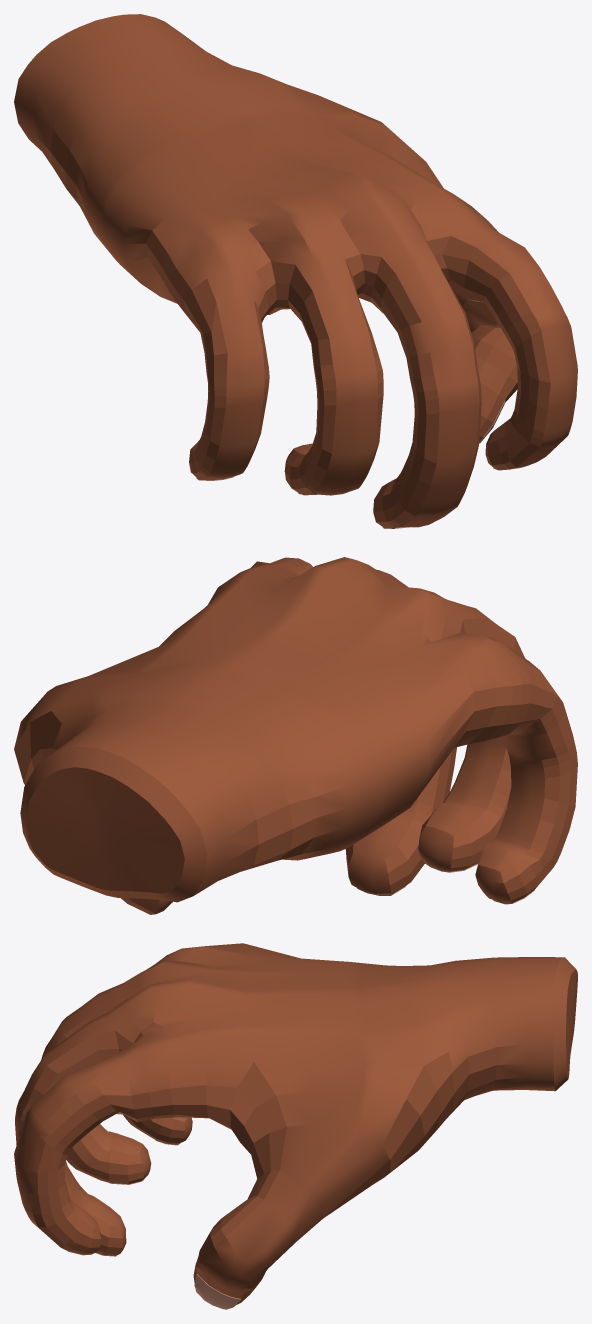
File: right_hand_closed_3.obj
The picture shows the model from 3 angles, top to bottom: view 1: azimuth 30°, elevation 25°; view 2: azimuth 150°, elevation 25°; view 3: azimuth 270°, elevation 25°; orthographic projection. The views are drawn at different scales.
Visible parts, largest first — view 1: hand:Mesh; view 2: hand:Mesh; view 3: hand:Mesh.
Boxes of the visible parts, <box> form: hand:Mesh: <box>14,14,577,528</box>; hand:Mesh: <box>14,557,577,914</box>; hand:Mesh: <box>14,943,577,1309</box>.
Size of the model in its own units: 1.36 by 1.05 by 1.95.
